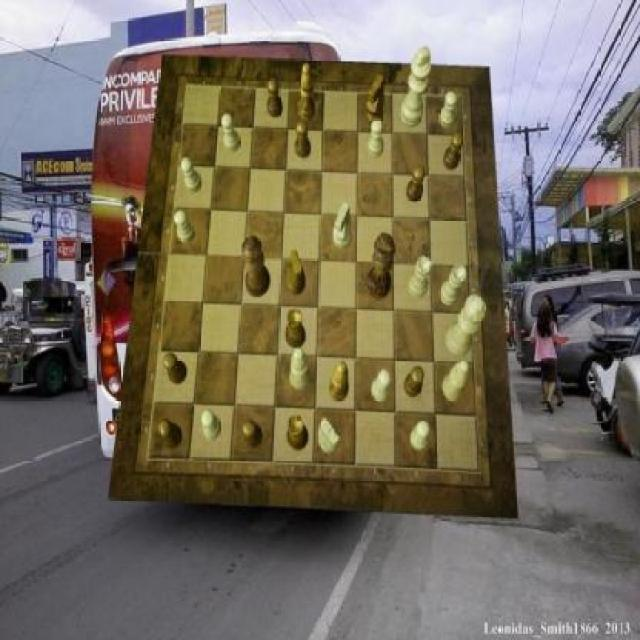bishop: (299, 63, 316, 122), (329, 362, 349, 403)
black-bishop: (366, 234, 396, 300)
black-king: (364, 74, 384, 126), (286, 251, 306, 296)
black-knight: (163, 354, 187, 386), (443, 132, 463, 170), (158, 420, 182, 451), (406, 166, 426, 202), (404, 366, 424, 399), (296, 120, 312, 158), (268, 80, 284, 118), (242, 420, 262, 448)
black-pawn: (242, 237, 270, 298)
black-queen: (284, 309, 306, 348), (286, 416, 309, 452)
black-rook: (442, 360, 468, 402), (290, 348, 312, 390)
white-bishop: (400, 46, 432, 128)
white-king: (332, 203, 352, 251), (318, 418, 342, 454)
white-knight: (222, 114, 240, 152), (371, 369, 391, 403), (176, 210, 196, 244), (182, 159, 202, 193), (439, 91, 456, 128), (202, 409, 222, 440), (411, 420, 431, 451), (368, 120, 384, 158)
white-pawn: (445, 294, 487, 356)
white-queen: (440, 265, 467, 306), (408, 255, 432, 298)
